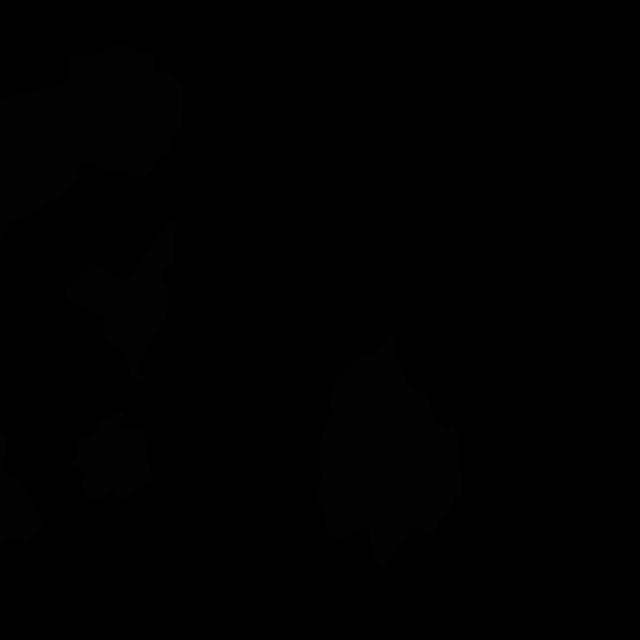cardboard: (0, 45, 183, 243), (318, 333, 463, 572), (66, 217, 177, 383), (68, 411, 152, 500), (0, 431, 44, 544)
